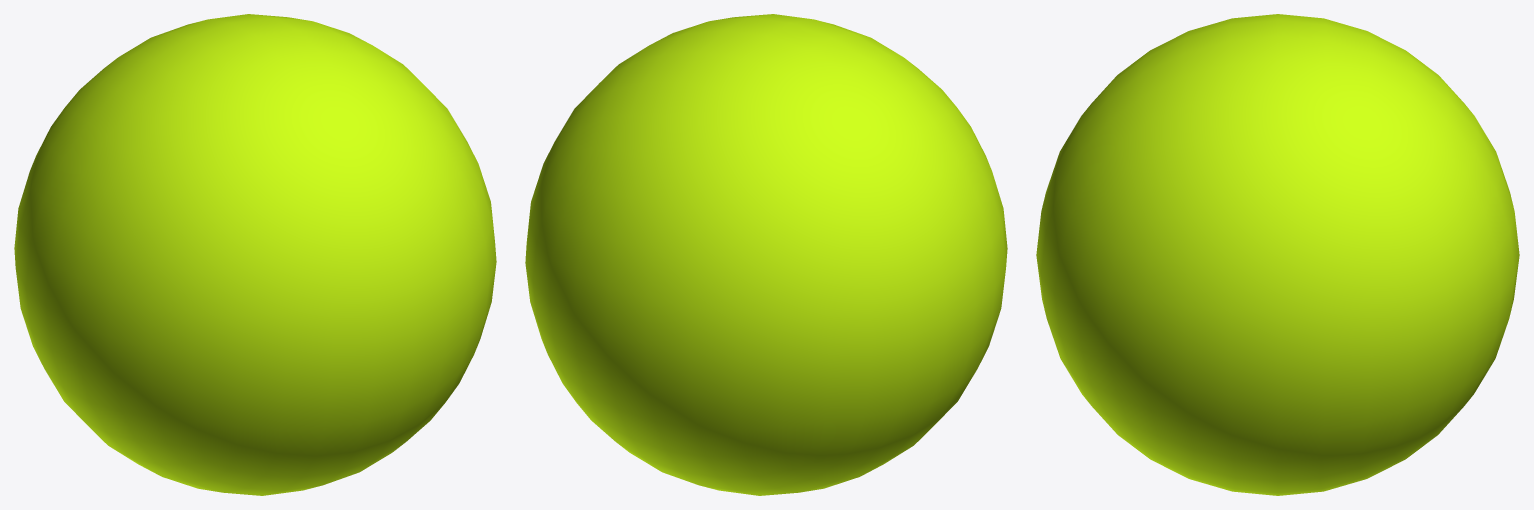
Rendered from Point.glb.
3 renders of one model, left to right at view 1: azimuth 30°, elevation 25°; view 2: azimuth 150°, elevation 25°; view 3: azimuth 270°, elevation 25°, orthographic.
Parts seen in each view (by area): view 1: Point; view 2: Point; view 3: Point.
Boxes of the visible parts, x1=… form: Point: x1=14, y1=14, x2=496, y2=495; Point: x1=525, y1=14, x2=1007, y2=495; Point: x1=1036, y1=14, x2=1519, y2=495.
Bounding box in the file's own units: 0.03 × 0.03 × 0.03.
